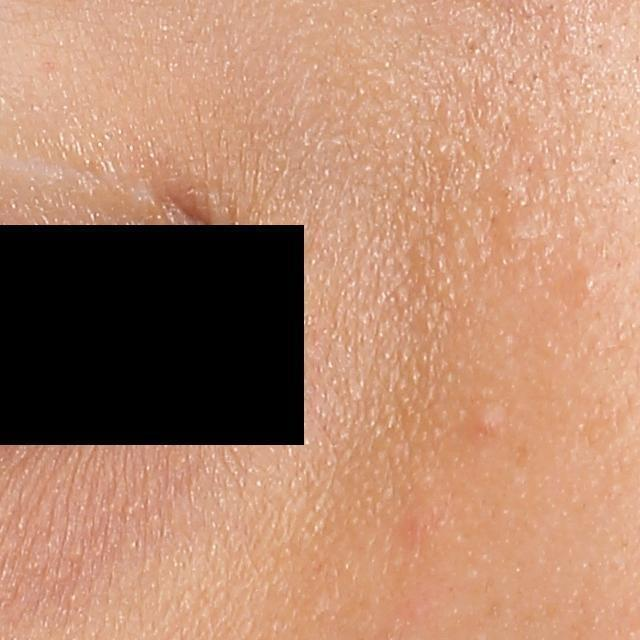comedo: (575, 272, 597, 294)
